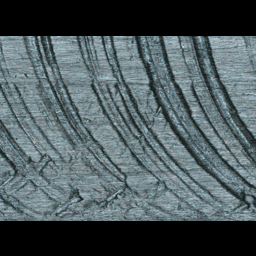d: (0, 37, 253, 220)
